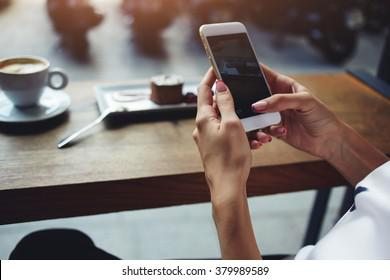mobile: (199, 22, 282, 129)
